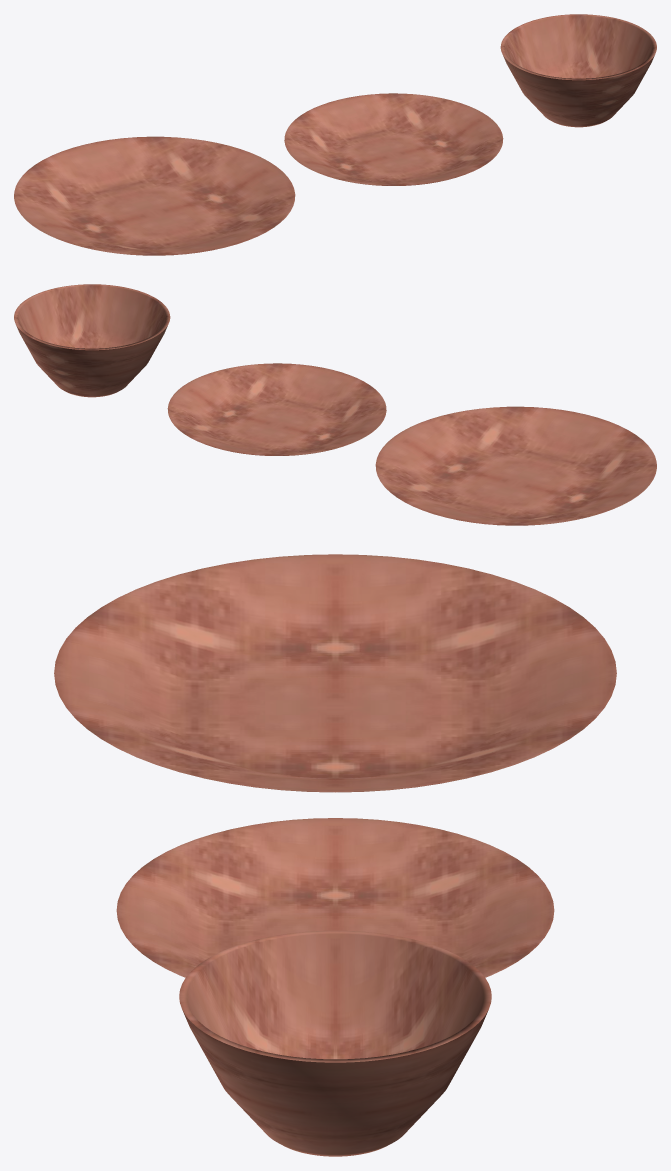
3 views of the same model, one above another, from view 1: azimuth 30°, elevation 25°; view 2: azimuth 150°, elevation 25°; view 3: azimuth 270°, elevation 25° (orthographic). The views are drawn at different scales.
Bounding box in the file's own units: 0.68 × 0.07 × 0.27.
Materials: 6 (6 with a texture image).
